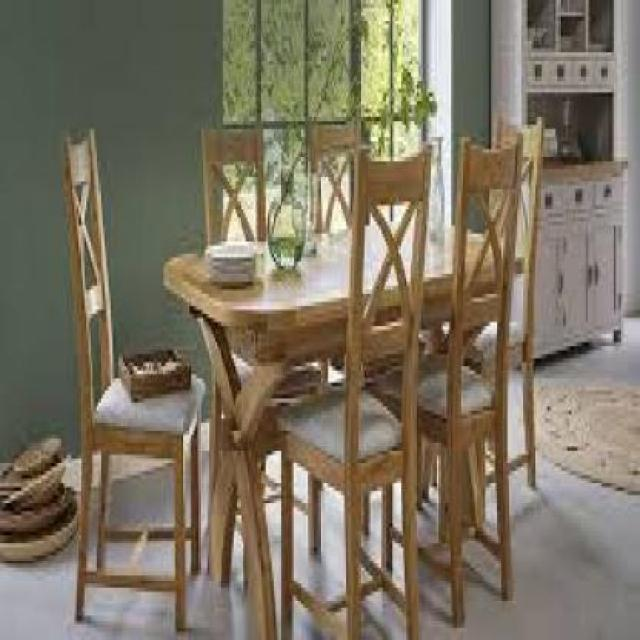tables: (162, 223, 522, 637)
